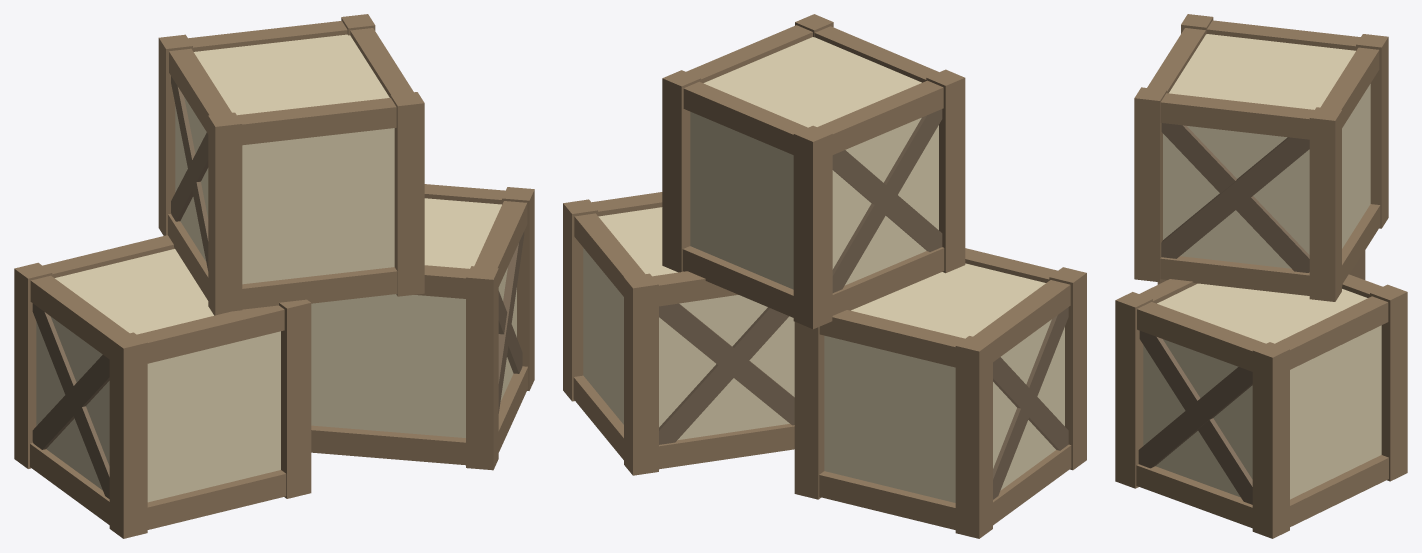
The picture shows the model from 3 angles, left to right: view 1: azimuth 30°, elevation 25°; view 2: azimuth 150°, elevation 25°; view 3: azimuth 270°, elevation 25°; orthographic projection. The views are drawn at different scales.
Visible parts, largest first — view 1: pCube48, pCube50, pCube49; view 2: pCube50, pCube48, pCube49; view 3: pCube49, pCube50.
Boxes of the visible parts, x1,y1,x2,y2 form: pCube48: [14, 235, 311, 538]; pCube50: [158, 14, 424, 315]; pCube49: [311, 184, 534, 470]; pCube50: [662, 14, 965, 329]; pCube48: [794, 248, 1086, 538]; pCube49: [563, 192, 794, 475]; pCube49: [1115, 274, 1407, 538]; pCube50: [1134, 14, 1388, 301].
Size of the model in its own units: 4.89 by 3.71 by 2.76.
